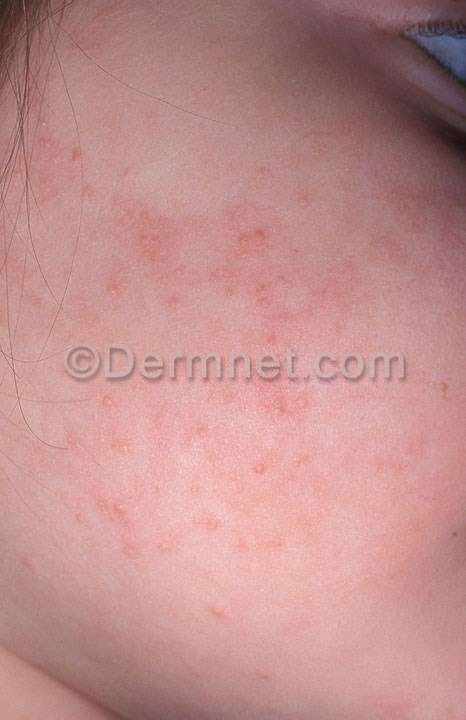Eczema: (33, 91, 456, 674)
